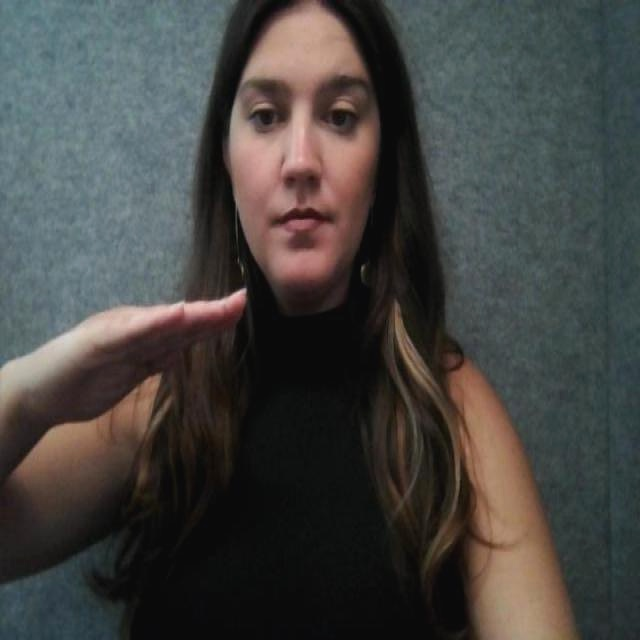Paper: (23, 271, 259, 443)
